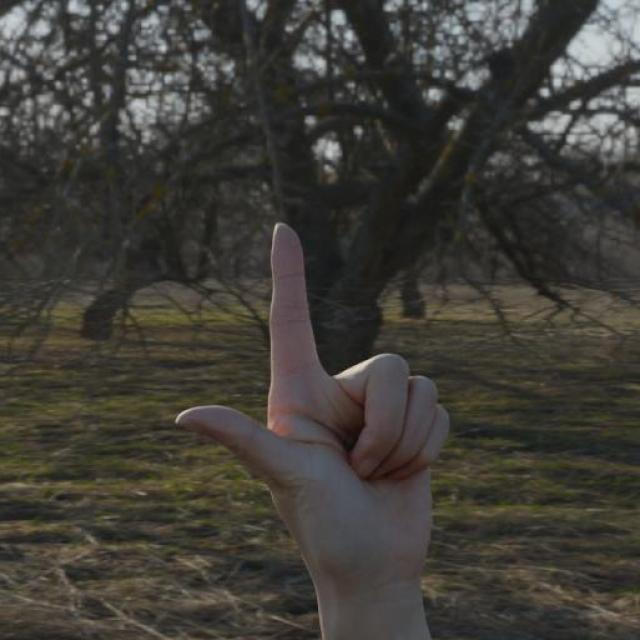L: (169, 218, 454, 618)
